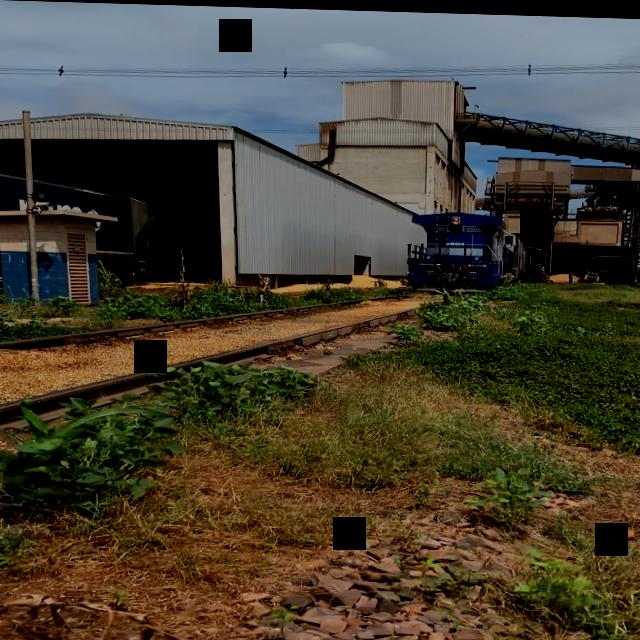hopper: (0, 159, 161, 282)
locomotive: (404, 206, 536, 292)
